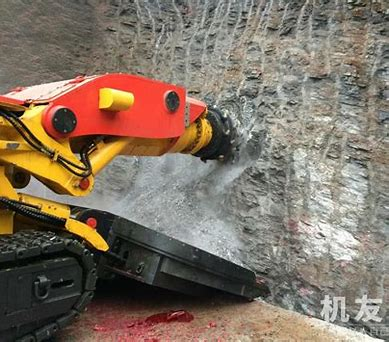person: (0, 73, 271, 342)
